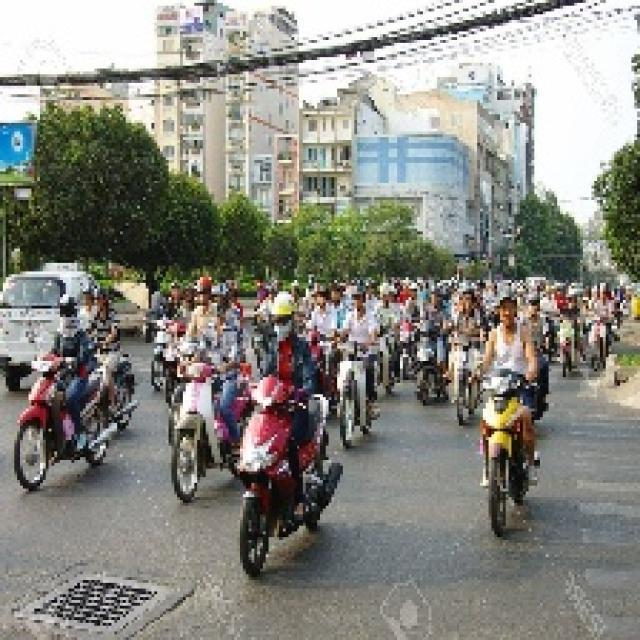motorcycle: (232, 378, 334, 584), (465, 352, 549, 550), (10, 352, 120, 495), (162, 337, 242, 499)
